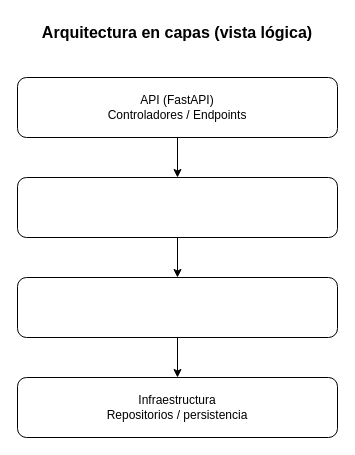
This 355x455 diagram has some shape labels left out. The shapes that lost their labels are listed below. From the top down, each one's centre as x and y in pixels, then its label:
At (x=177, y=207): "Aplicación Casos de uso / Servicios".
At (x=177, y=307): "Dominio Modelos + Reglas de negocio".
